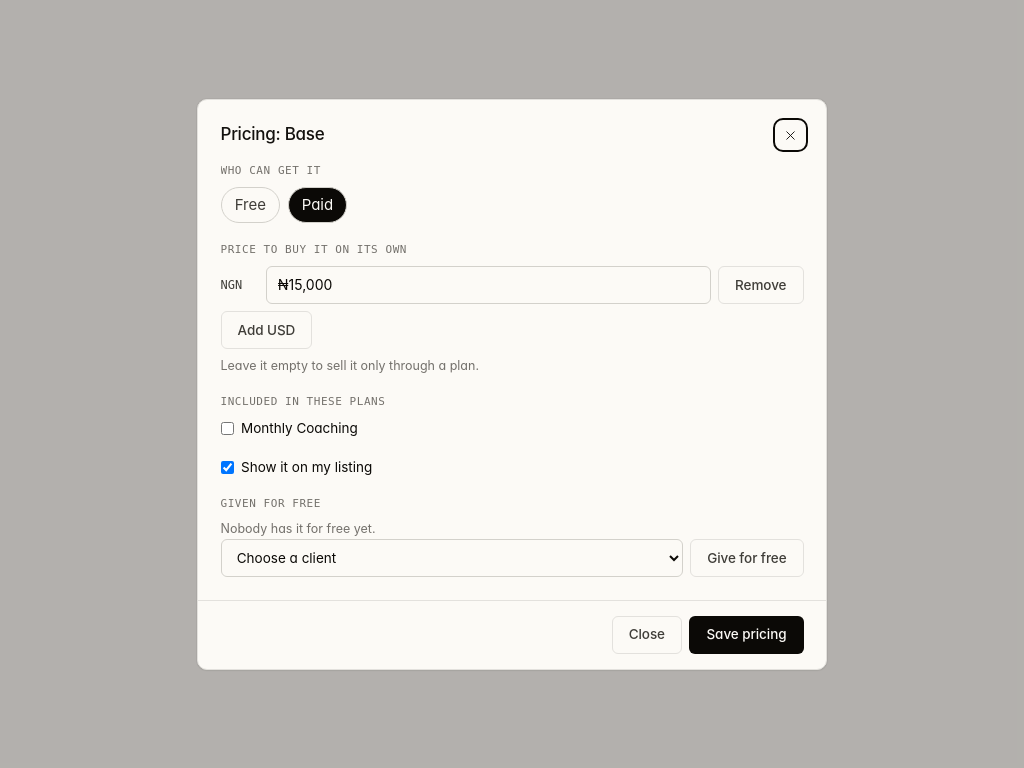
Test: ContentPricingModal: unsaved edits, warnings, grants › keeps the API's warnings after our own save is handed back as rawAccess
Click the checkbox labelled "Show it on my listing": click(227, 467) [220, 461, 234, 474]
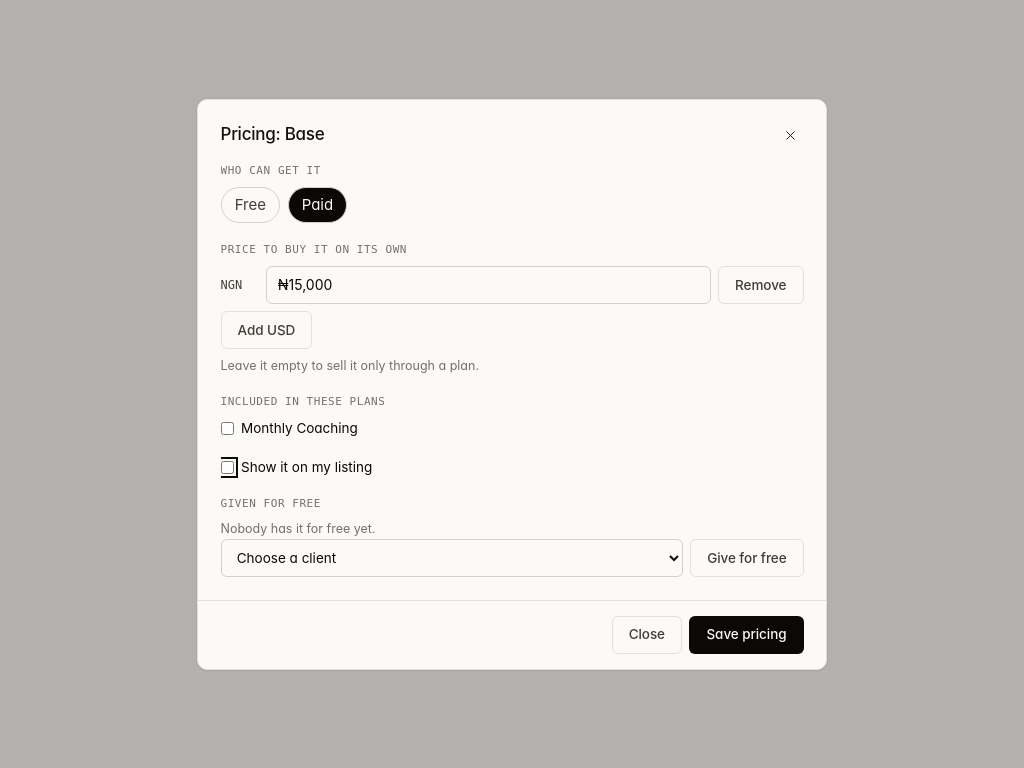
Click the button "Save pricing": click(746, 634) [690, 616, 804, 654]
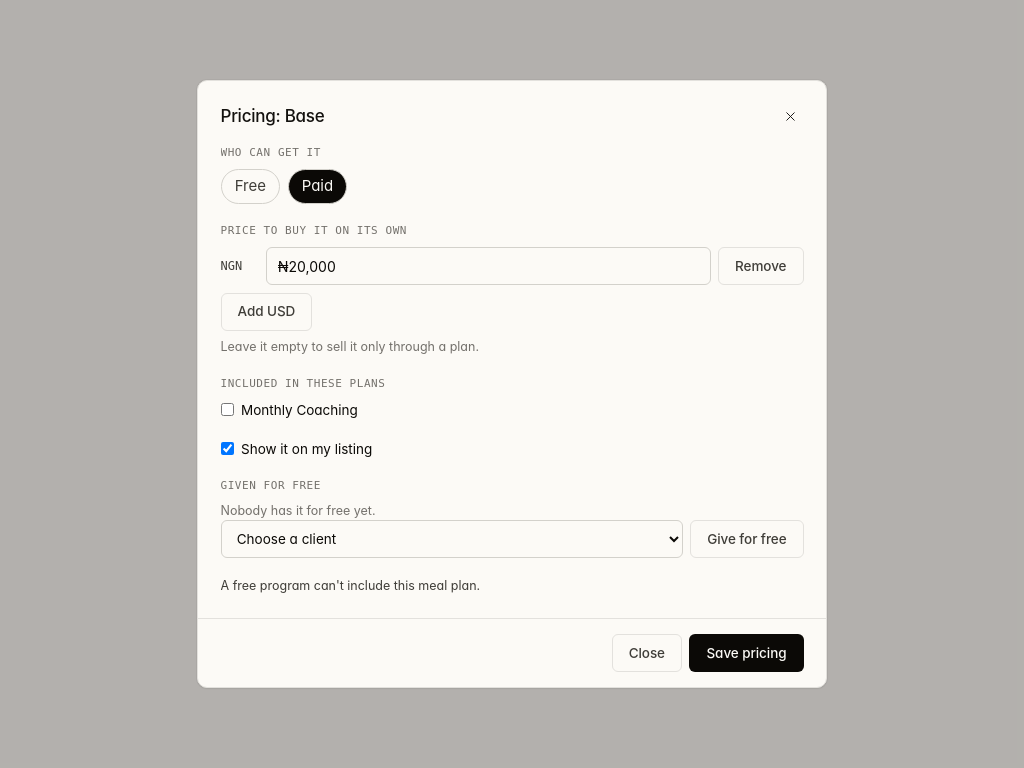
Result: the button "Save pricing" is disabled at [690, 634, 804, 672]
Result: the text "A free program can't include this meal plan." is shown at [220, 578, 480, 593]
